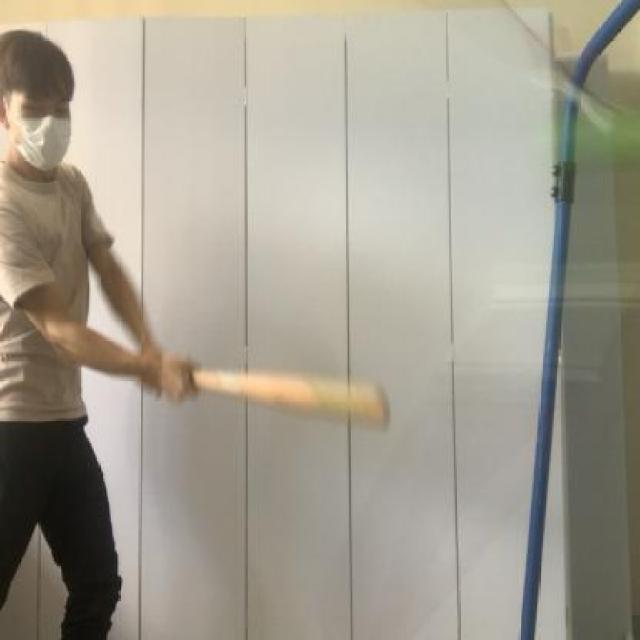baseball: (527, 92, 640, 173)
